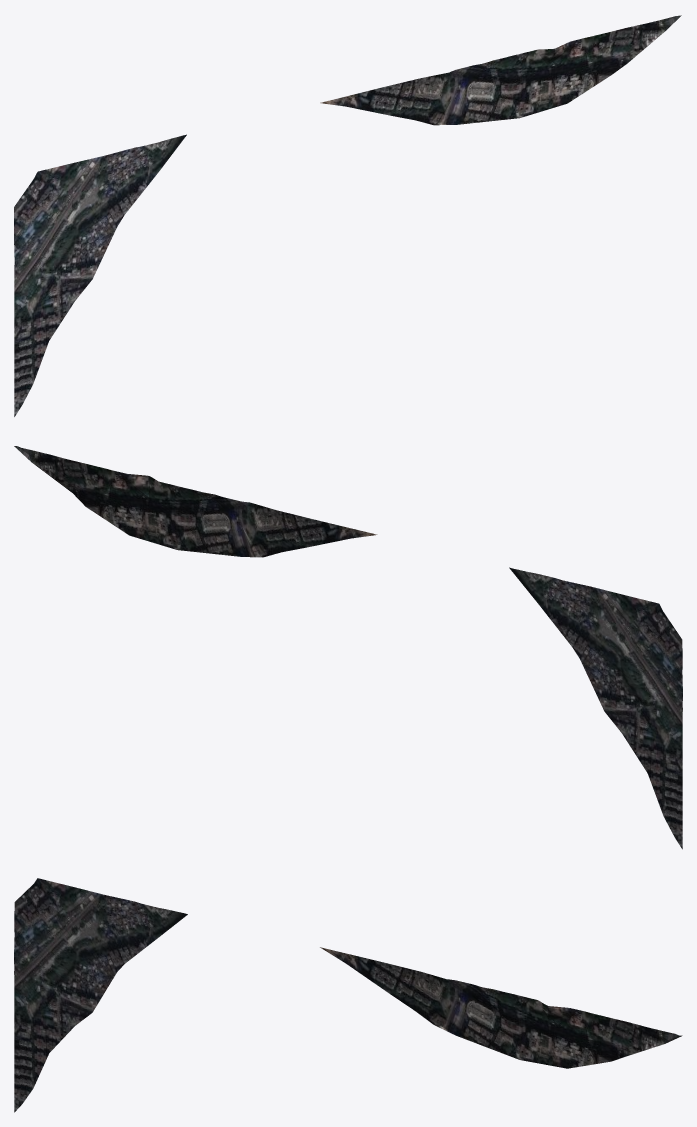
3 views of the same model, one above another, from view 1: azimuth 30°, elevation 25°; view 2: azimuth 150°, elevation 25°; view 3: azimuth 330°, elevation 25° (orthographic).
Parts seen in each view (by area): view 1: 0_0_3_2; view 2: 0_0_3_2; view 3: 0_0_3_2.
Boxes of the visible parts, left/top/right/bottom form: 0_0_3_2: left=14, top=15, right=681, bottom=416; 0_0_3_2: left=14, top=446, right=682, bottom=849; 0_0_3_2: left=14, top=878, right=682, bottom=1112.
Size of the model in its own units: 1762 by 606 by 22.
Materials: 1 (1 with a texture image).
